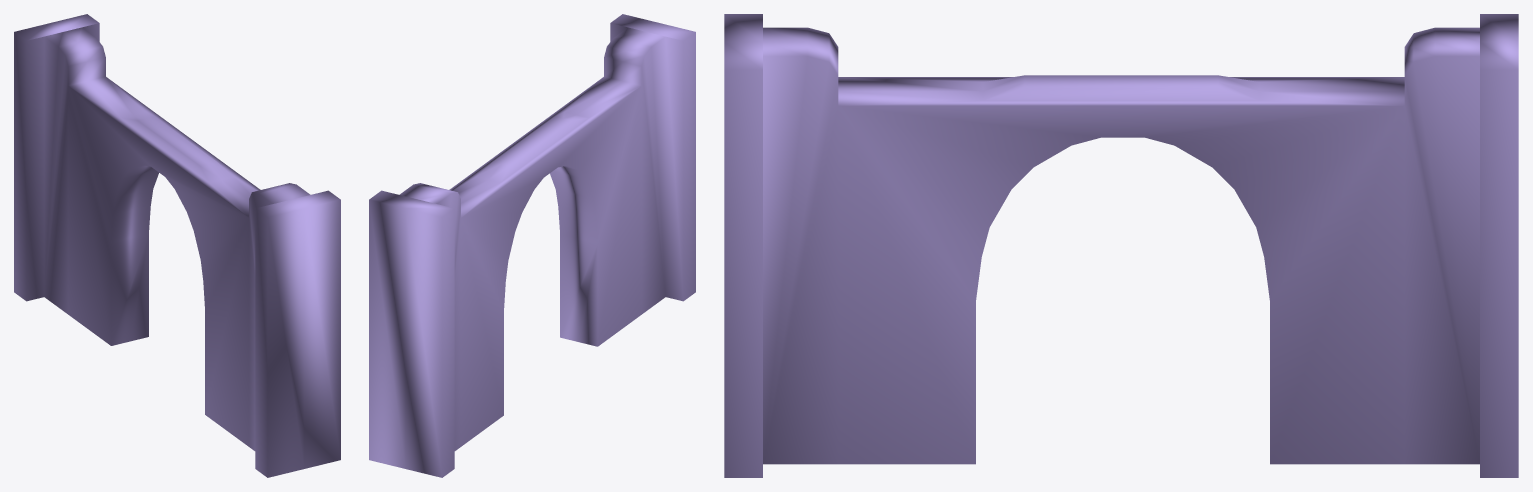
The model's file is Door Wall.fbx.
3 views of the same model, side by side, from view 1: azimuth 30°, elevation 25°; view 2: azimuth 150°, elevation 25°; view 3: azimuth 270°, elevation 25° (orthographic). The views are drawn at different scales.
Visible parts, largest first — view 1: Cube.095; view 2: Cube.095; view 3: Cube.095.
Boxes of the visible parts, box(x1,y1,x2,y2) form: Cube.095: box(14, 14, 340, 477); Cube.095: box(369, 14, 695, 477); Cube.095: box(724, 14, 1518, 477).
Size of the model in its own units: 100 by 340 by 600.
